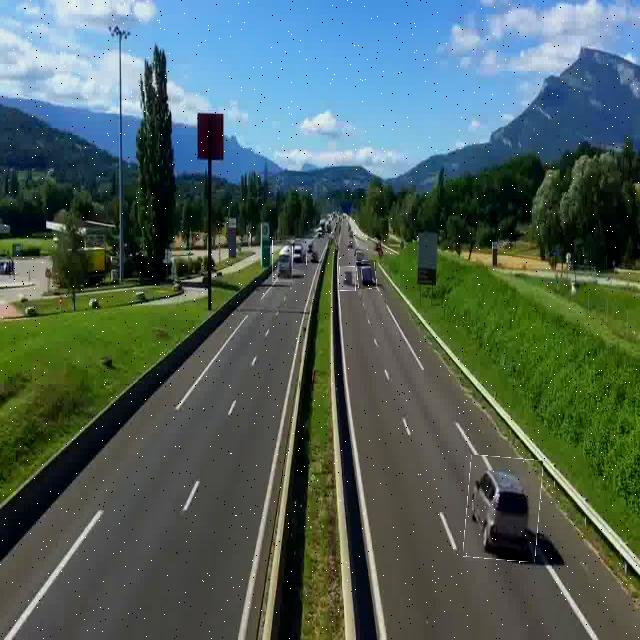Car: (465, 457, 541, 561), (358, 260, 376, 289), (339, 267, 356, 291)
Truck: (272, 240, 293, 282), (293, 240, 307, 270)
